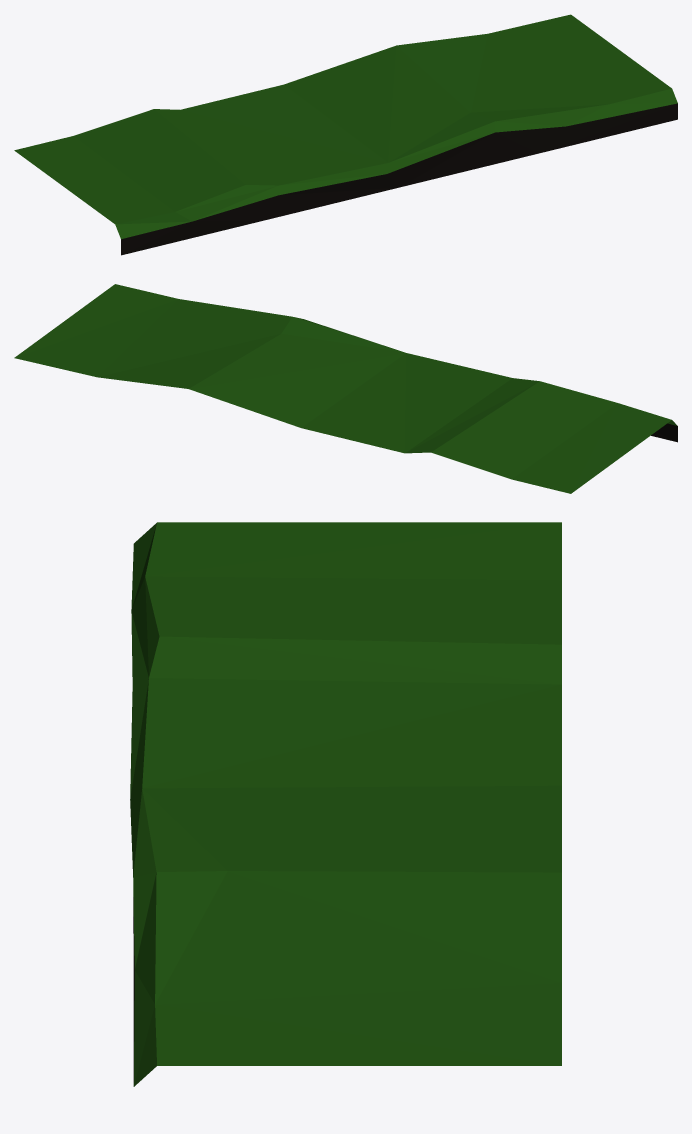
File: 2D_Island_Top_4.fbx
3 renders of one model, top to bottom at view 1: azimuth 30°, elevation 25°; view 2: azimuth 150°, elevation 25°; view 3: azimuth 270°, elevation 25°, orthographic. The views are drawn at different scales.
Parts seen in each view (by area): view 1: 2D_Island_Top_4; view 2: 2D_Island_Top_4; view 3: 2D_Island_Top_4.
Part boxes in pixels (x1,y1,x2,y2): 2D_Island_Top_4: (14,14,677,255); 2D_Island_Top_4: (14,284,677,493); 2D_Island_Top_4: (130,522,561,1086).
Bounding box in the file's own units: 2606 × 172 × 875.
